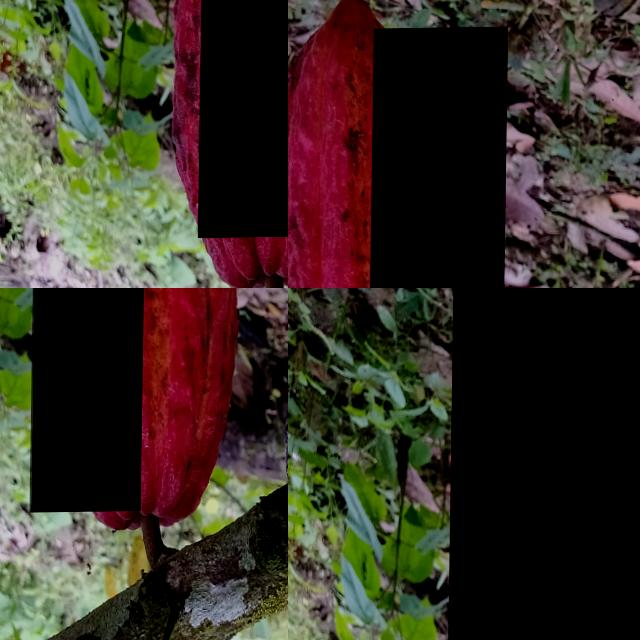Fitoftora: (31, 288, 146, 513), (8, 288, 59, 454), (0, 388, 17, 560)
Monilia: (368, 28, 508, 288), (199, 0, 288, 238)
Sana: (447, 288, 640, 640)
